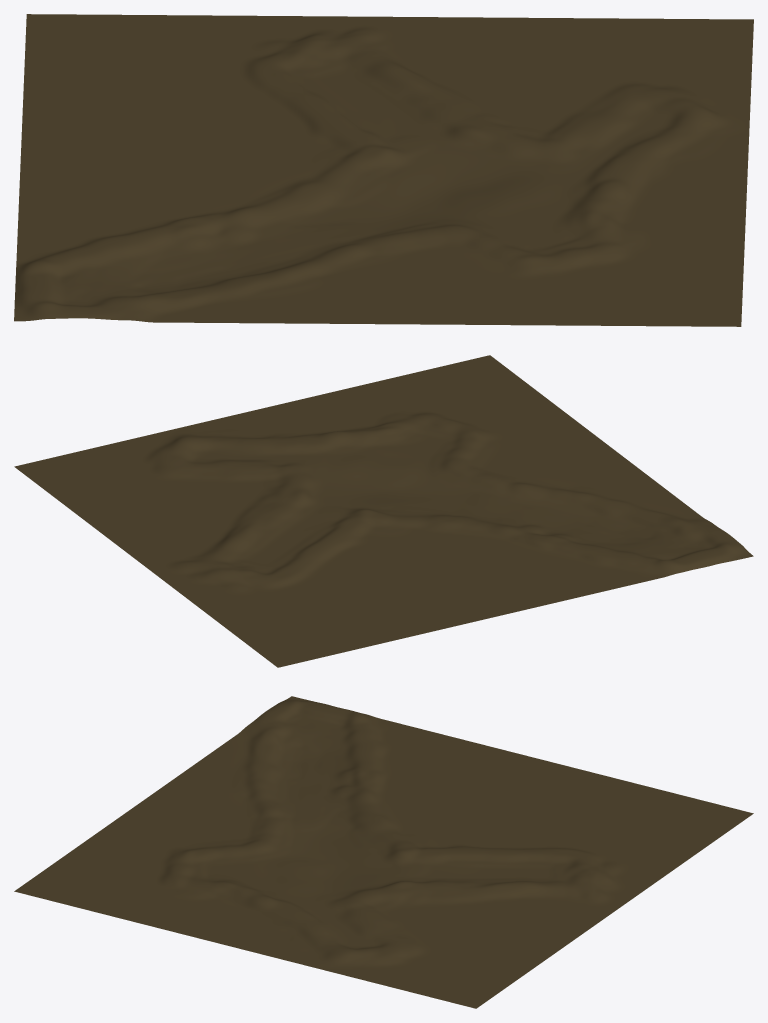
The model's file is harbourSeaFloor.fbx.
3 views of the same model, one above another, from view 1: azimuth 30°, elevation 25°; view 2: azimuth 150°, elevation 25°; view 3: azimuth 270°, elevation 25° (orthographic). The views are drawn at different scales.
Visible parts, largest first — view 1: seaFloor; view 2: seaFloor; view 3: seaFloor.
Boxes of the visible parts, <box> form: seaFloor: <box>14,14,753,326</box>; seaFloor: <box>14,355,753,667</box>; seaFloor: <box>14,696,753,1008</box>.
Bounding box in the file's own units: 32.69 × 0.495 × 32.69.
